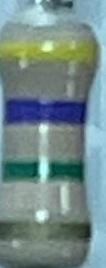Blue: (2, 99, 85, 126)
Green: (0, 158, 86, 183)
Side-Silver: (1, 221, 91, 244)
Yellow: (1, 40, 96, 70)
